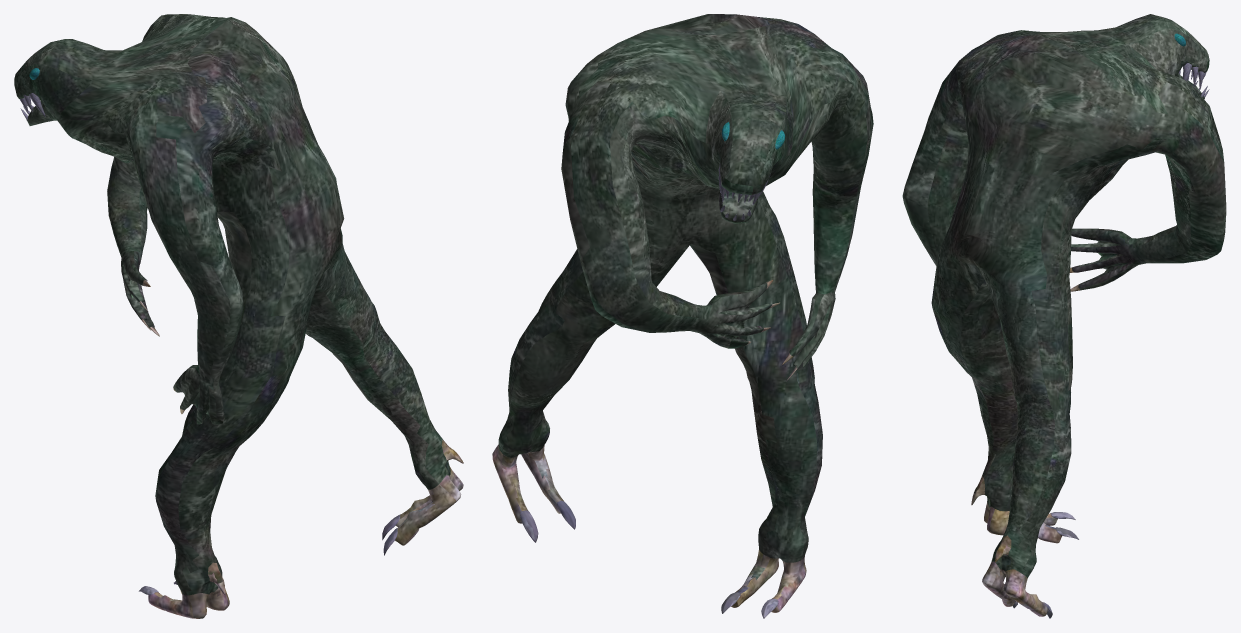
Rendered from Aranar.0015.obj.
3 renders of one model, left to right at view 1: azimuth 30°, elevation 25°; view 2: azimuth 150°, elevation 25°; view 3: azimuth 270°, elevation 25°, orthographic. The views are drawn at different scales.
Parts seen in each view (by area): view 1: polySurface28; view 2: polySurface28; view 3: polySurface28.
Part boxes in pixels (left/top/right/bottom): polySurface28: left=14, top=14, right=463, bottom=618; polySurface28: left=492, top=14, right=873, bottom=618; polySurface28: left=902, top=14, right=1226, bottom=618.
Size of the model in its own units: 1.4 by 2.08 by 1.2.
4 materials, 4 textured.
